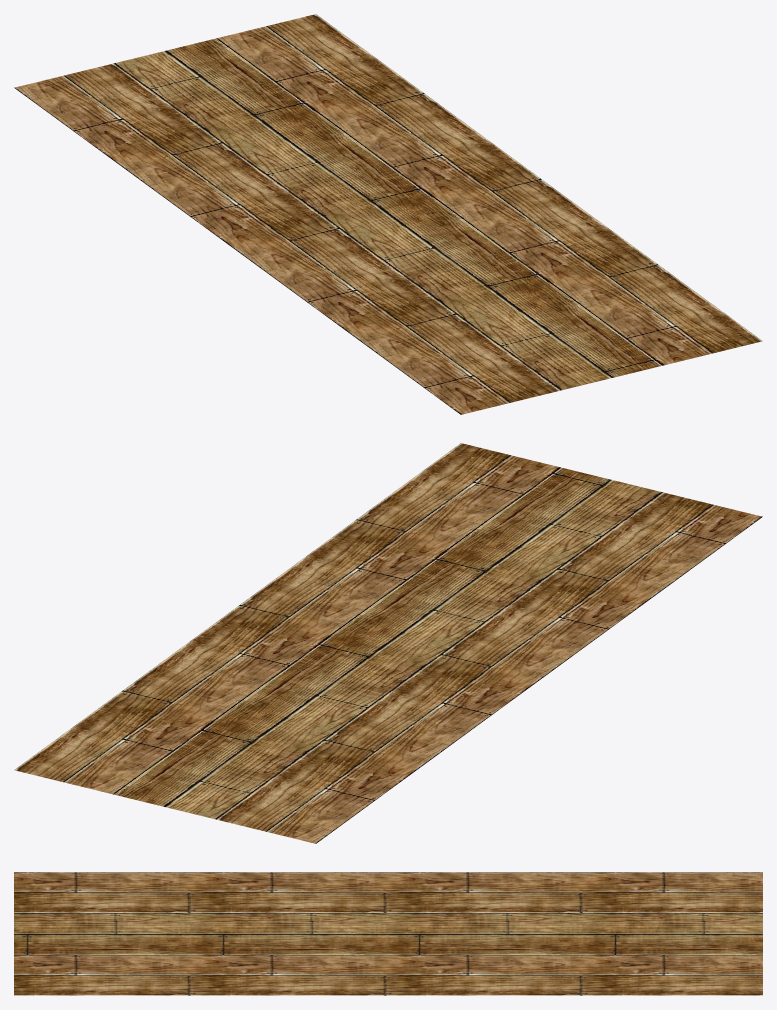
Rendered from LAKETOWN_WAREHOUSE2_PS_WH2_SMALLFLOOR_7737.fbx.
The picture shows the model from 3 angles, top to bottom: view 1: azimuth 30°, elevation 25°; view 2: azimuth 150°, elevation 25°; view 3: azimuth 270°, elevation 25°; orthographic projection. The views are drawn at different scales.
Visible parts, largest first — view 1: LAKETOWN_WAREHOUSE2_PS_WH2_SMALLFLOOR_7737; view 2: LAKETOWN_WAREHOUSE2_PS_WH2_SMALLFLOOR_7737; view 3: LAKETOWN_WAREHOUSE2_PS_WH2_SMALLFLOOR_7737.
Part boxes in pixels (bbox=[...]): LAKETOWN_WAREHOUSE2_PS_WH2_SMALLFLOOR_7737: bbox=[14, 14, 762, 414]; LAKETOWN_WAREHOUSE2_PS_WH2_SMALLFLOOR_7737: bbox=[14, 443, 762, 843]; LAKETOWN_WAREHOUSE2_PS_WH2_SMALLFLOOR_7737: bbox=[14, 872, 762, 995].
Size of the model in its own units: 23858 by 0.0225 by 61156.
1 material, 1 textured.
